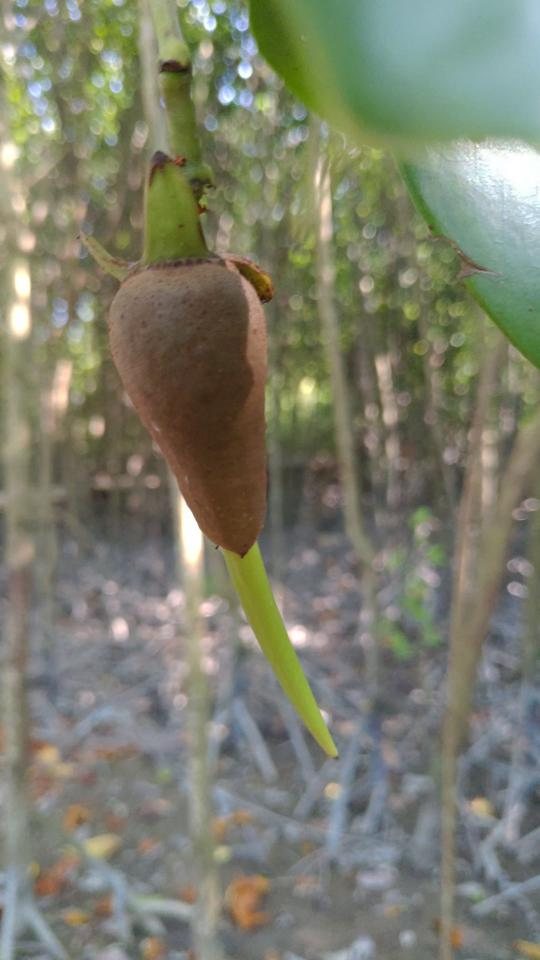mentah: (50, 119, 378, 778)
